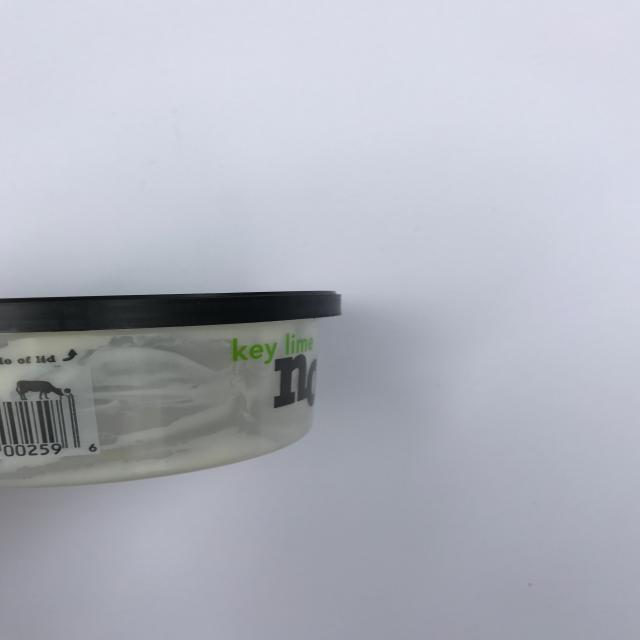plastic: (0, 290, 342, 489)
